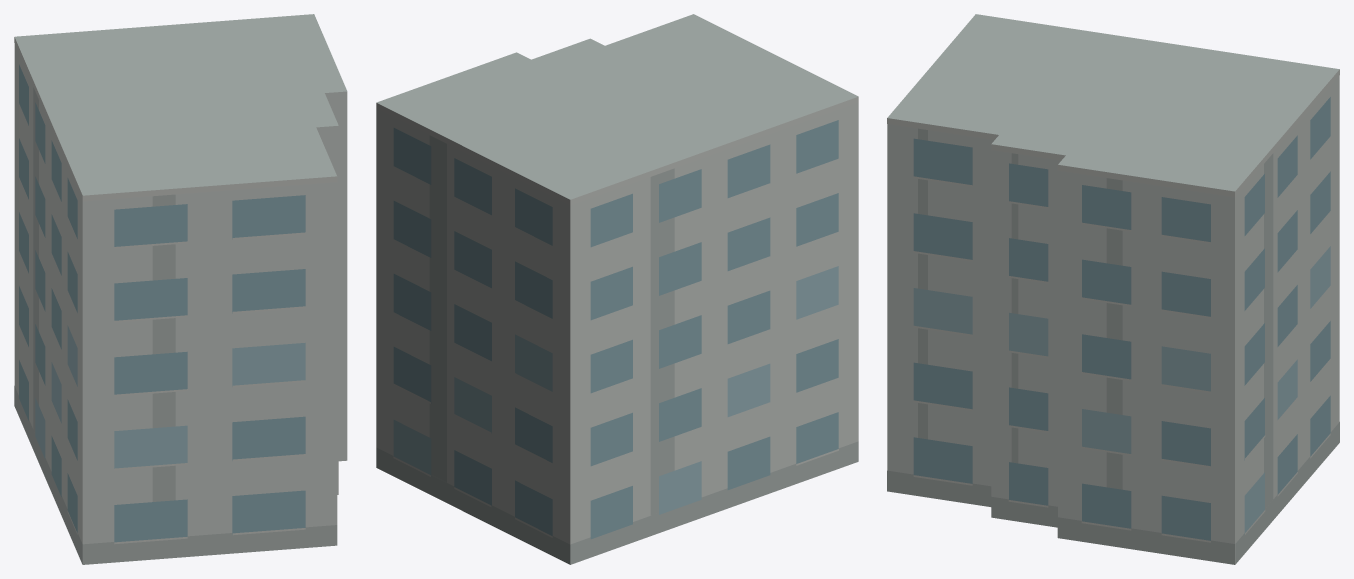
File: survey-upis-32720699.glb
3 renders of one model, left to right at view 1: azimuth 30°, elevation 25°; view 2: azimuth 150°, elevation 25°; view 3: azimuth 270°, elevation 25°, orthographic. The views are drawn at different scales.
Parts seen in each view (by area): view 1: survey-upis-32720699.tmp; view 2: survey-upis-32720699.tmp; view 3: survey-upis-32720699.tmp.
Part boxes in pixels (box(x1,y1,x2,y2)): survey-upis-32720699.tmp: box(14, 14, 347, 564); survey-upis-32720699.tmp: box(376, 14, 858, 564); survey-upis-32720699.tmp: box(887, 14, 1339, 564).
Bounding box in the file's own units: 15.56 × 15.25 × 16.77.
